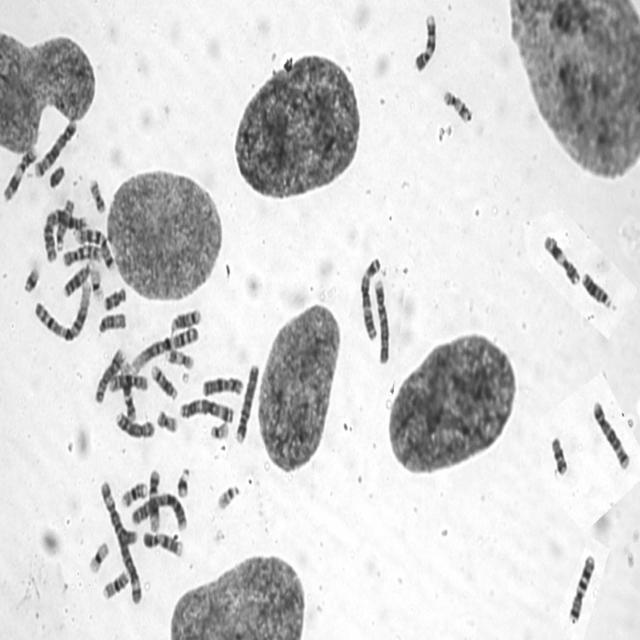A1: (32, 278, 92, 344), (128, 322, 200, 376)
A2: (40, 203, 88, 264), (130, 489, 188, 532)
A3: (358, 252, 381, 342), (178, 394, 235, 424)
B4: (234, 360, 260, 446), (372, 276, 391, 366)
B5: (32, 117, 79, 180), (591, 398, 631, 471)
C10: (60, 240, 103, 268), (107, 371, 150, 394)
C11: (0, 142, 39, 204), (541, 232, 581, 288)
C12: (120, 359, 137, 422), (147, 466, 161, 534)
C6: (98, 478, 139, 549), (118, 530, 142, 610)
C7: (566, 552, 597, 624), (72, 224, 115, 273)
C8: (93, 345, 126, 405), (114, 408, 156, 440)
C9: (412, 10, 437, 73), (140, 528, 184, 559)
D13: (580, 269, 613, 310), (61, 259, 94, 299)
D14: (150, 361, 178, 401), (168, 306, 202, 334)
D15: (54, 196, 76, 252), (96, 310, 128, 335)
E16: (118, 478, 148, 509), (101, 568, 130, 600)
E17: (440, 85, 472, 132), (163, 346, 194, 371)
E18: (549, 433, 568, 477), (102, 284, 127, 312)
F19: (87, 538, 110, 574), (89, 265, 105, 302)
F20: (154, 406, 179, 434), (88, 176, 106, 214)
G21: (21, 263, 41, 294), (175, 465, 191, 499)
G22: (214, 480, 242, 513), (208, 418, 230, 441)
X: (201, 373, 244, 397)
Y: (47, 161, 66, 190)
